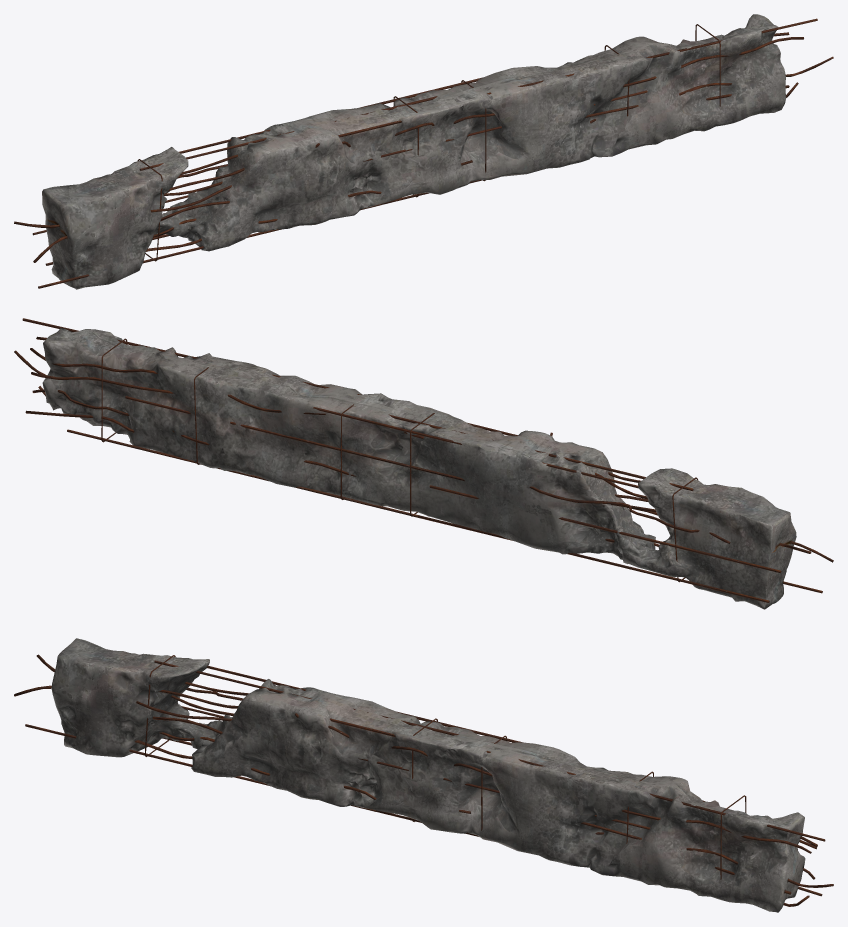
Rendered from concrete_joist_1.gltf.
The picture shows the model from 3 angles, top to bottom: view 1: azimuth 30°, elevation 25°; view 2: azimuth 150°, elevation 25°; view 3: azimuth 330°, elevation 25°; orthographic projection. The views are drawn at different scales.
Parts seen in each view (by area): view 1: concrete_joist_1; view 2: concrete_joist_1; view 3: concrete_joist_1.
Part boxes in pixels (x1,y1,x2,y2): concrete_joist_1: (14,14,833,289); concrete_joist_1: (14,318,833,609); concrete_joist_1: (14,638,833,912).
Bounding box in the file's own units: 5.6 × 0.6584 × 0.4445.
2 materials, 2 textured.
